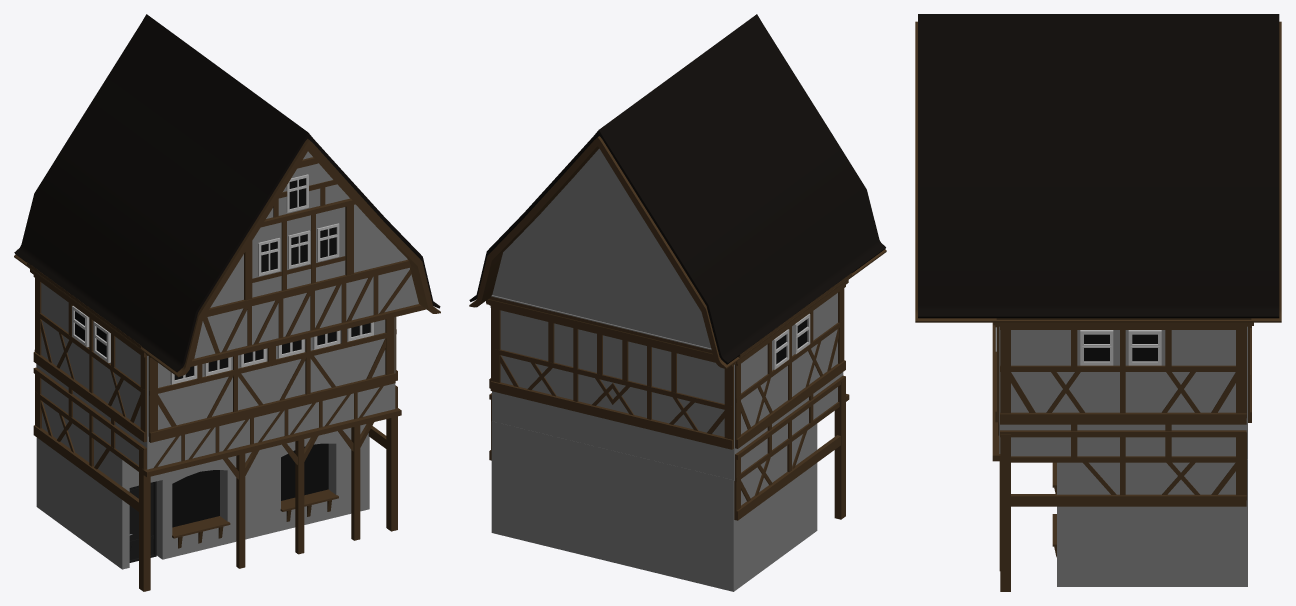
File: SM_house_german_005.fbx
3 views of the same model, side by side, from view 1: azimuth 30°, elevation 25°; view 2: azimuth 150°, elevation 25°; view 3: azimuth 270°, elevation 25° (orthographic). The views are drawn at different scales.
Parts seen in each view (by area): view 1: Object084; view 2: Object084; view 3: Object084.
Part boxes in pixels (x1=…): Object084: x1=14, y1=14, x2=440, y2=591; Object084: x1=469, y1=14, x2=886, y2=591; Object084: x1=915, y1=14, x2=1281, y2=591.
Bounding box in the file's own units: 347 × 373 × 571.
